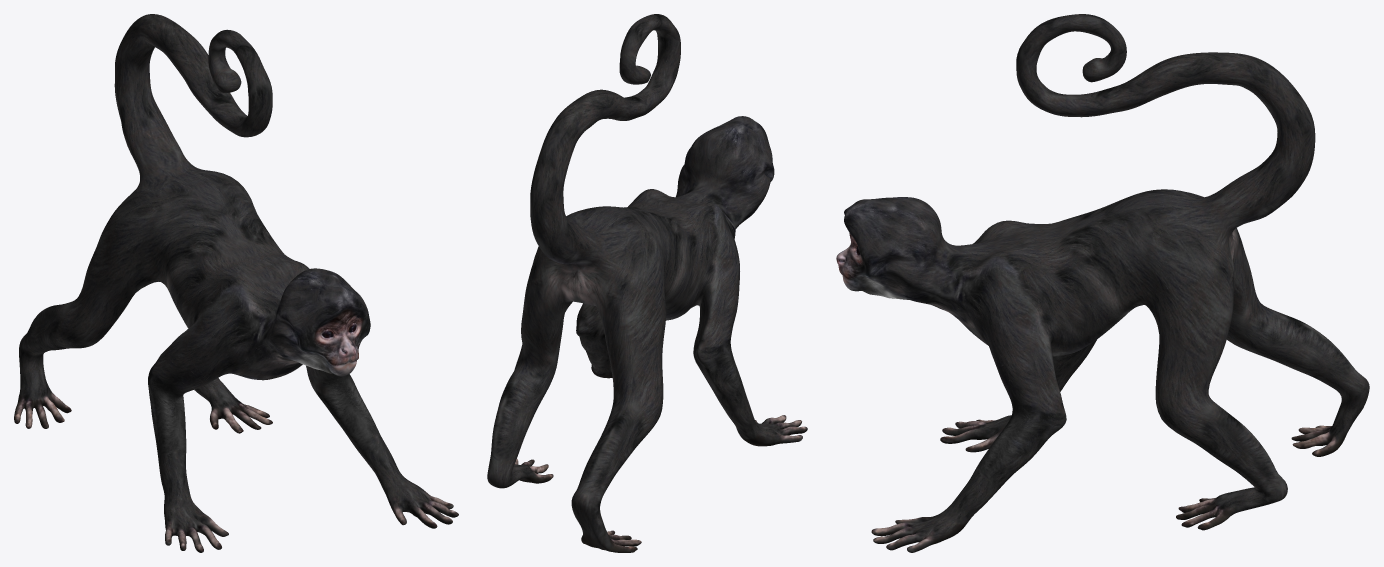
The model's file is MonoAraña.gltf.
3 views of the same model, side by side, from view 1: azimuth 30°, elevation 25°; view 2: azimuth 150°, elevation 25°; view 3: azimuth 270°, elevation 25° (orthographic). The views are drawn at different scales.
Visible parts, largest first — view 1: Spider_Monkey; view 2: Spider_Monkey; view 3: Spider_Monkey.
Boxes of the visible parts, x1,y1,x2,y2 form: Spider_Monkey: (14, 14, 458, 552); Spider_Monkey: (487, 14, 807, 552); Spider_Monkey: (836, 14, 1369, 552).
Bounding box in the file's own units: 19.54 × 33.09 × 34.03.
1 material, 1 textured.
